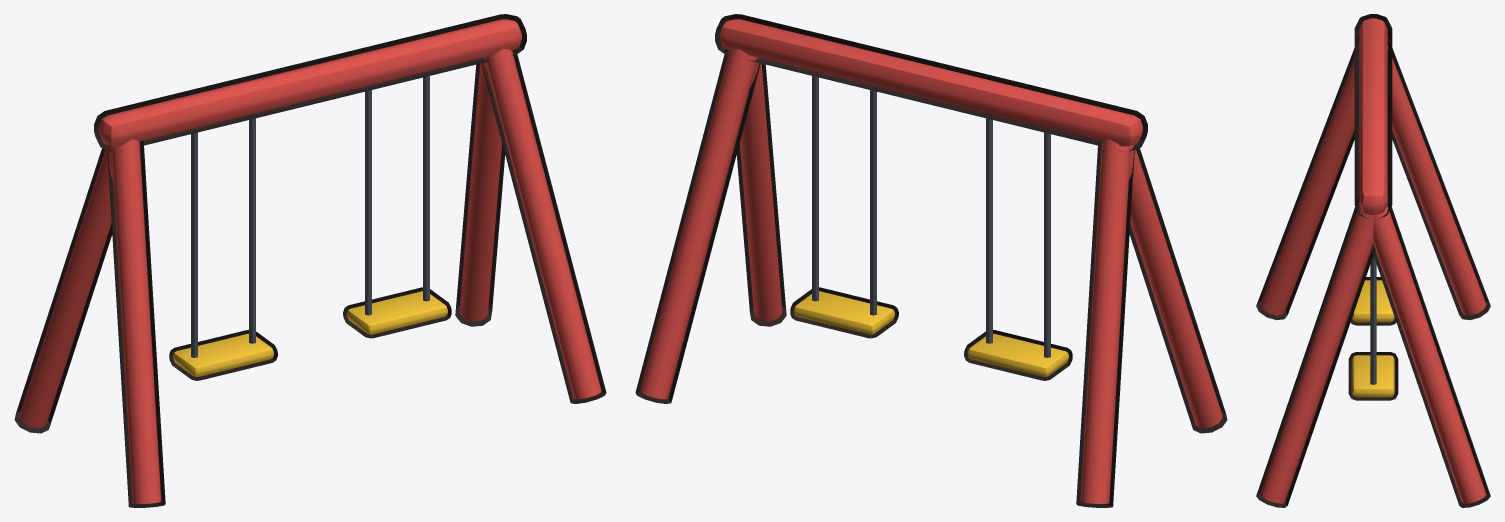
File: Swing.fbx
3 views of the same model, side by side, from view 1: azimuth 30°, elevation 25°; view 2: azimuth 150°, elevation 25°; view 3: azimuth 270°, elevation 25° (orthographic). The views are drawn at different scales.
Parts seen in each view (by area): view 1: PR_Swing_Awning1, PR_Swing_Outline, PR_Swing_Metal, PR_Swing_Yellow; view 2: PR_Swing_Awning1, PR_Swing_Outline, PR_Swing_Metal, PR_Swing_Yellow; view 3: PR_Swing_Awning1, PR_Swing_Outline, PR_Swing_Yellow, PR_Swing_Metal.
Part boxes in pixels (bbox=[...]): PR_Swing_Awning1: bbox=[19, 19, 601, 503]; PR_Swing_Outline: bbox=[14, 14, 606, 507]; PR_Swing_Metal: bbox=[191, 76, 429, 357]; PR_Swing_Yellow: bbox=[173, 291, 447, 376]; PR_Swing_Awning1: bbox=[640, 19, 1222, 503]; PR_Swing_Outline: bbox=[635, 14, 1227, 507]; PR_Swing_Metal: bbox=[812, 76, 1050, 357]; PR_Swing_Yellow: bbox=[794, 291, 1068, 376]; PR_Swing_Awning1: bbox=[1260, 18, 1486, 503]; PR_Swing_Outline: bbox=[1256, 14, 1490, 507]; PR_Swing_Yellow: bbox=[1352, 280, 1394, 397]; PR_Swing_Metal: bbox=[1370, 255, 1376, 384].
Bounding box in the file's own units: 4.07 × 2.9 × 1.98.
